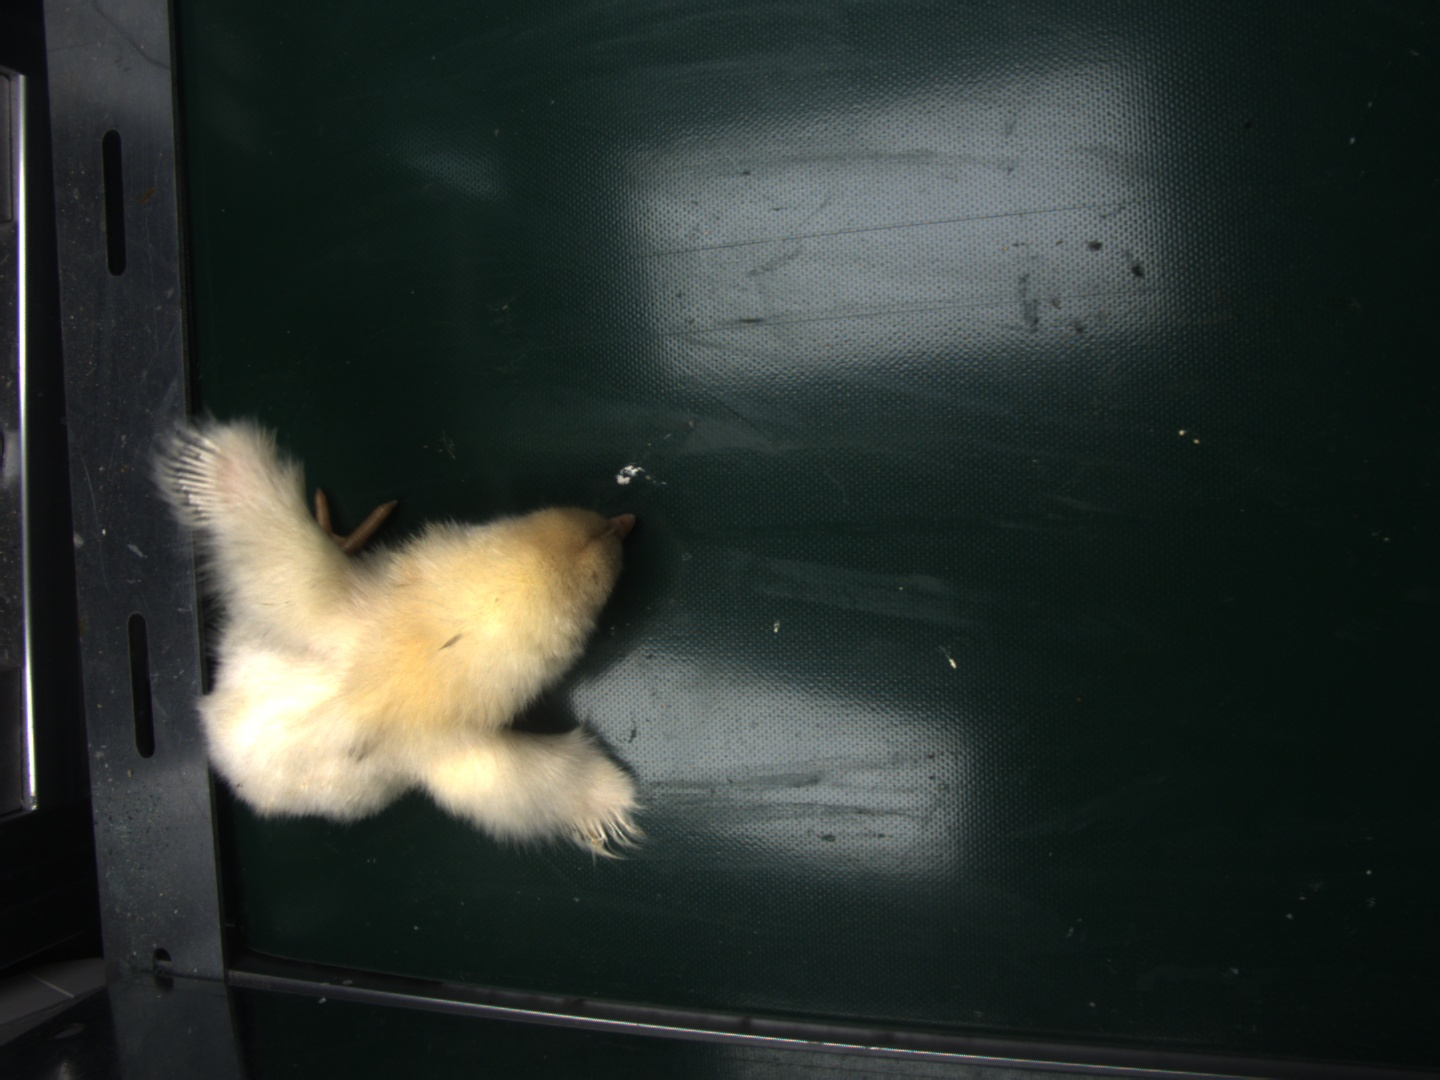male: (176, 438, 226, 522)
